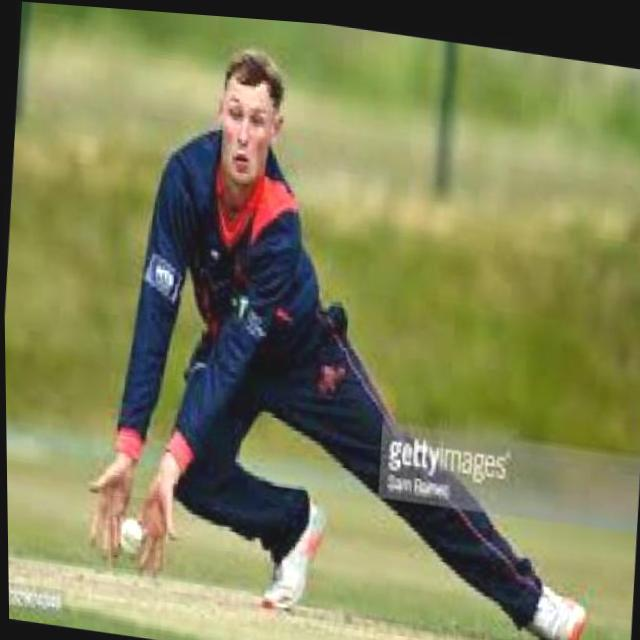-: (108, 494, 162, 569)
